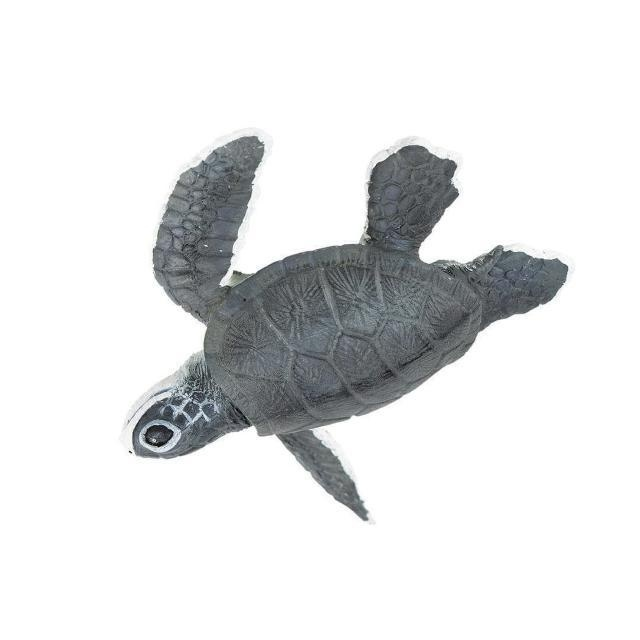turtle: (120, 130, 569, 525)
